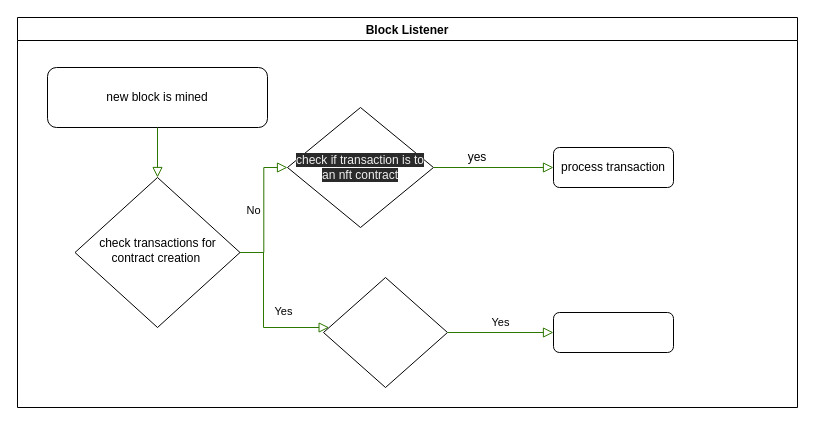
This 815x425 diagram has some shape labels left out. Here are the shapes that lost their labels. From the top down, the centre of each, then its label:
the point at 385,332: is it an nft contract
the point at 613,332: begin initial index
